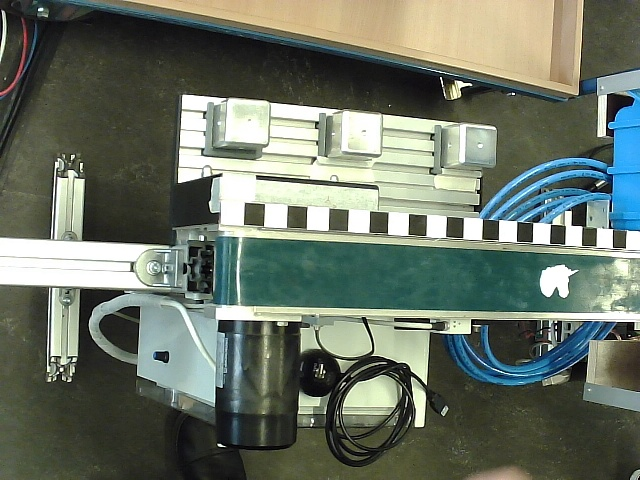unicorn: (539, 264, 580, 299)
